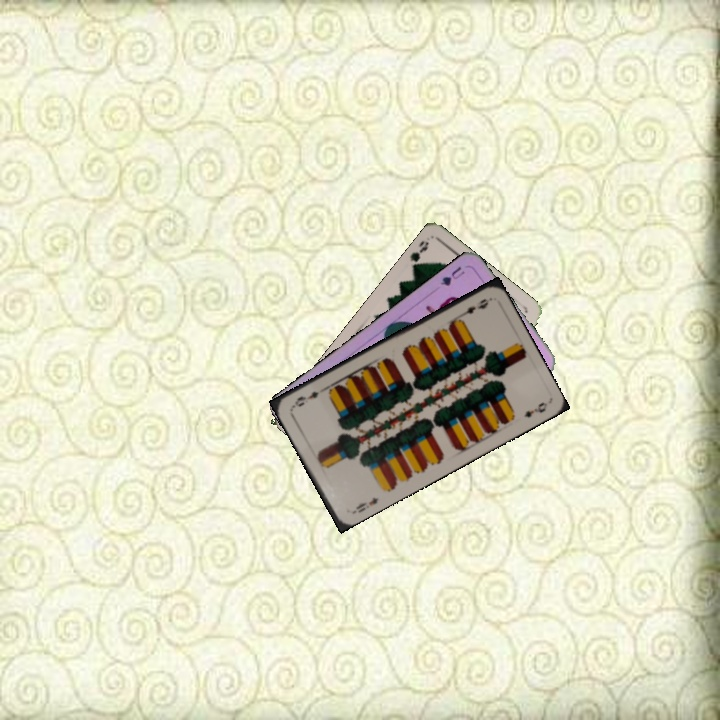E9: (455, 295, 492, 323), (348, 493, 381, 517)
G9: (406, 236, 431, 274)
GU: (436, 262, 467, 289)
